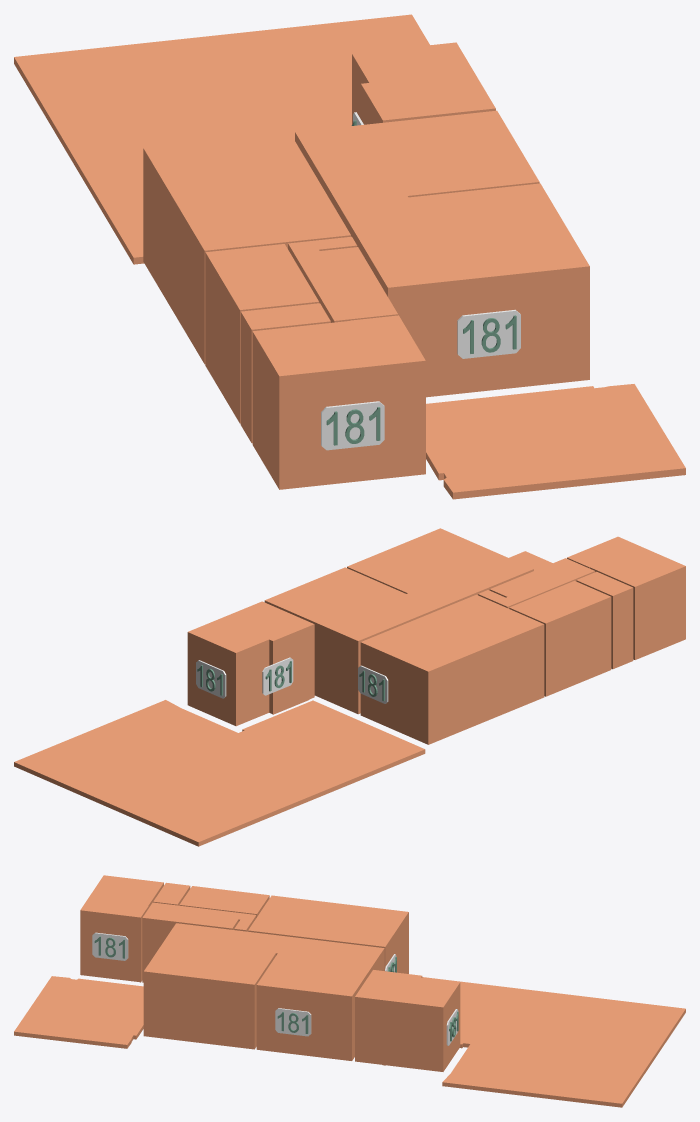
The picture shows the model from 3 angles, top to bottom: view 1: azimuth 30°, elevation 25°; view 2: azimuth 150°, elevation 25°; view 3: azimuth 270°, elevation 25°; orthographic projection. The views are drawn at different scales.
Parts seen in each view (by area): view 1: g_9, g_0, g_3, g_2, g_8, g_1, g_4, g_7, g_6, g_5, g_37, g_17; view 2: g_9, g_2, g_7, g_1, g_0, g_4, g_3, g_6, g_5, g_29, g_33, g_13; view 3: g_9, g_0, g_1, g_7, g_8, g_2, g_3, g_6, g_4, g_25, g_21, g_5.
Boxes of the visible parts, x1,y1,x2,y2 form: g_9: (14,14,429,264); g_0: (338,183,589,397); g_3: (252,315,425,489); g_2: (143,132,350,364); g_8: (426,384,685,499); g_1: (295,110,539,213); g_4: (205,244,319,423); g_7: (352,42,495,124); g_6: (288,236,397,322); g_5: (240,303,330,443); g_37: (321,401,384,450); g_17: (457,309,520,358); g_9: (14,700,425,846); g_2: (360,594,544,744); g_7: (187,601,314,726); g_1: (264,567,440,714); g_0: (347,528,533,609); g_4: (509,581,611,696); g_3: (567,536,685,659); g_6: (478,558,595,608); g_5: (576,571,633,669); g_29: (262,657,293,695); g_33: (358,665,388,703); g_13: (196,660,226,698); g_9: (422,977,685,1107); g_0: (143,923,286,1049); g_1: (256,936,384,1060); g_7: (355,970,460,1071); g_8: (14,976,143,1048); g_2: (248,895,408,973); g_3: (80,875,163,982); g_6: (142,902,256,982); g_4: (179,886,269,917); g_25: (275,1008,311,1036); g_21: (92,932,128,960); g_5: (153,882,190,905).
Bounding box in the file's own units: 13.44 × 2.65 × 23.37.
